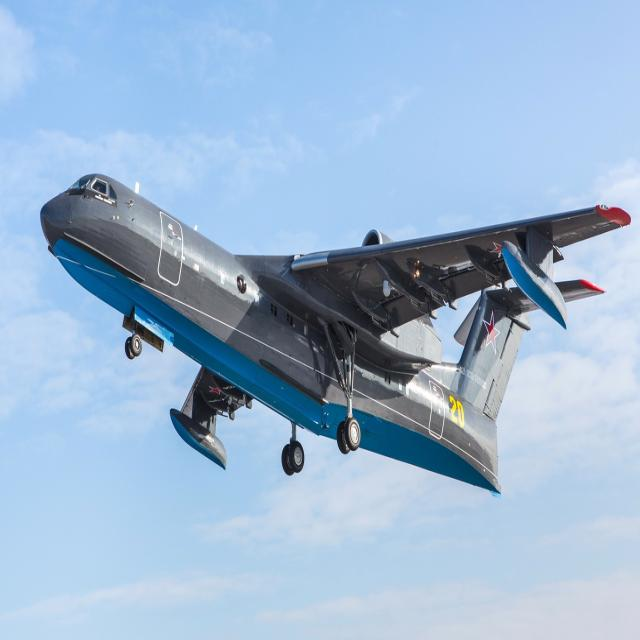MIL_Plane: (0, 42, 375, 113)
